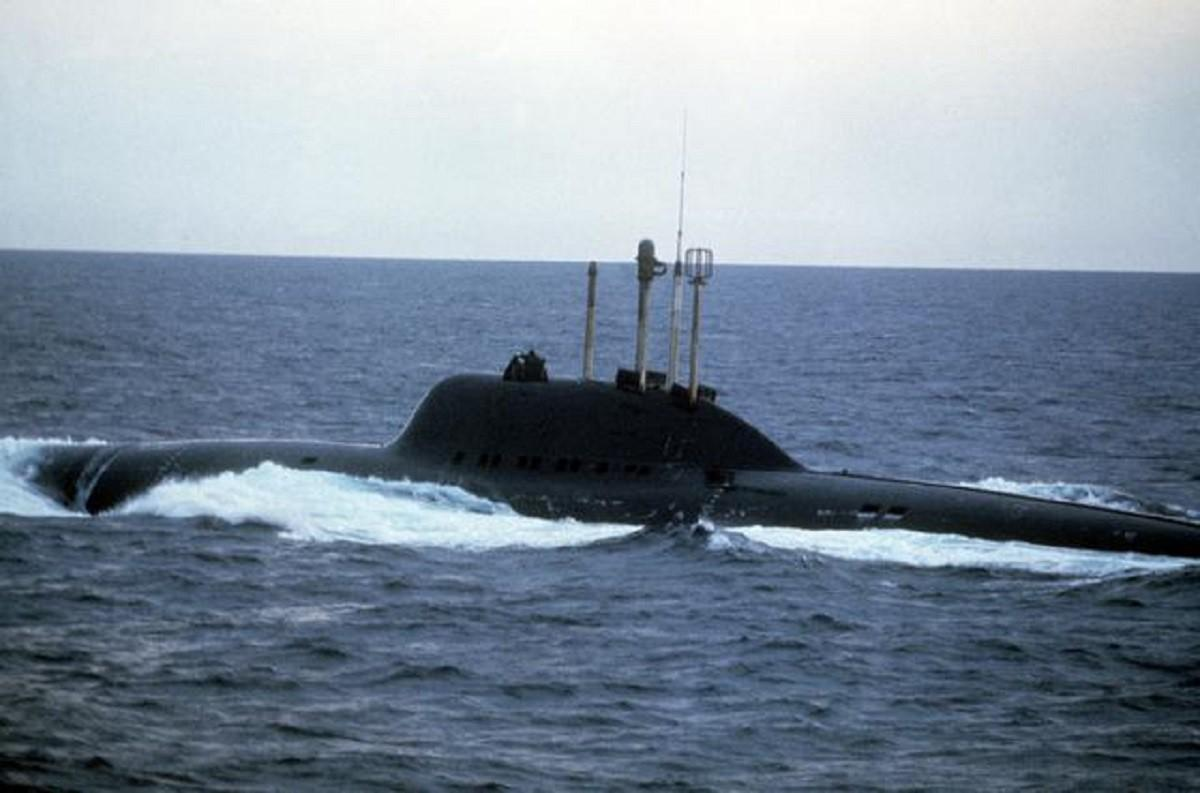Submarine: (0, 168, 1200, 744)
